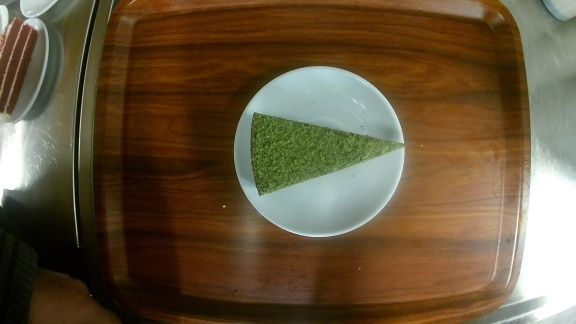fistiklipasta: (232, 66, 406, 236)
